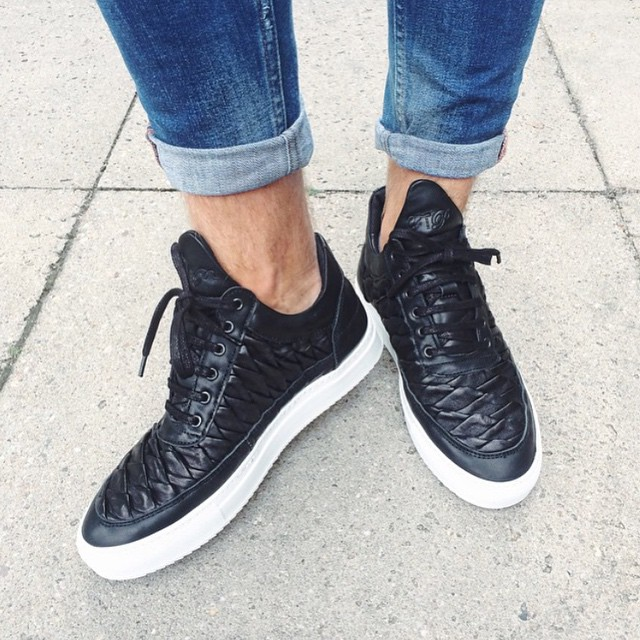sneaker: (61, 173, 391, 601), (344, 125, 552, 536)
